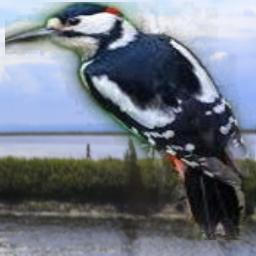Woodpecker: (5, 2, 255, 240)
